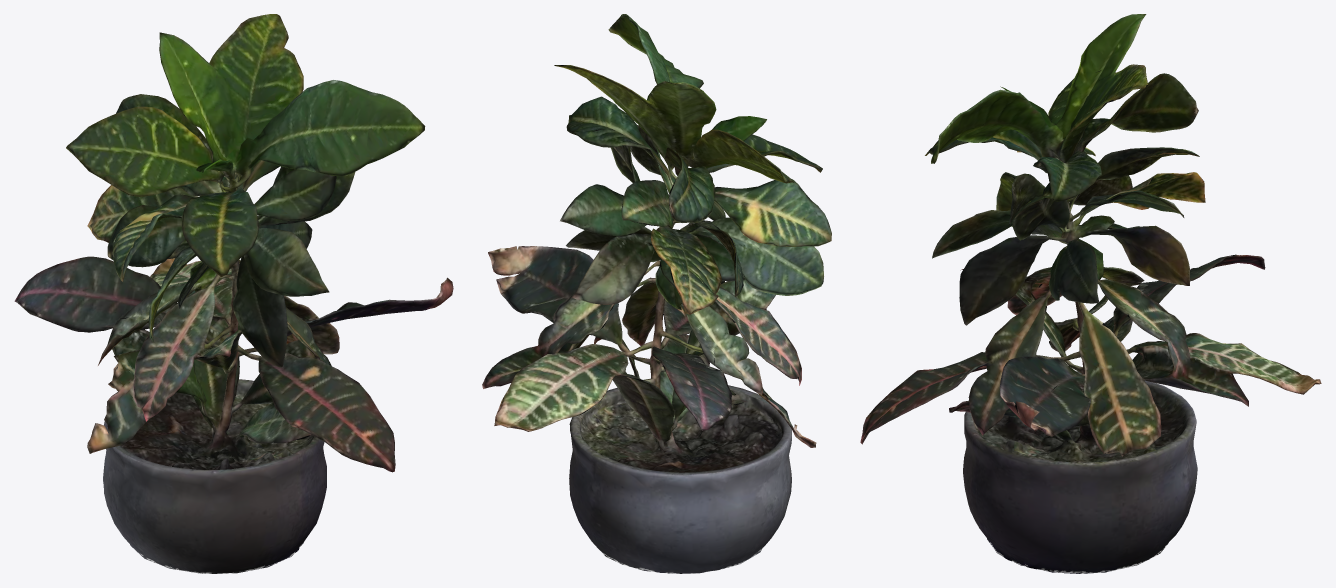
Rendered from croton_garden.glb.
3 views of the same model, side by side, from view 1: azimuth 30°, elevation 25°; view 2: azimuth 150°, elevation 25°; view 3: azimuth 270°, elevation 25° (orthographic). The views are drawn at different scales.
Parts seen in each view (by area): view 1: v1_full.001; view 2: v1_full.001; view 3: v1_full.001.
Part boxes in pixels (x1,y1,x2,y2): v1_full.001: (14,14,453,573); v1_full.001: (482,14,831,573); v1_full.001: (860,14,1321,573).
Size of the model in its own units: 0.7096 by 0.9502 by 0.78.
1 material, 1 textured.
